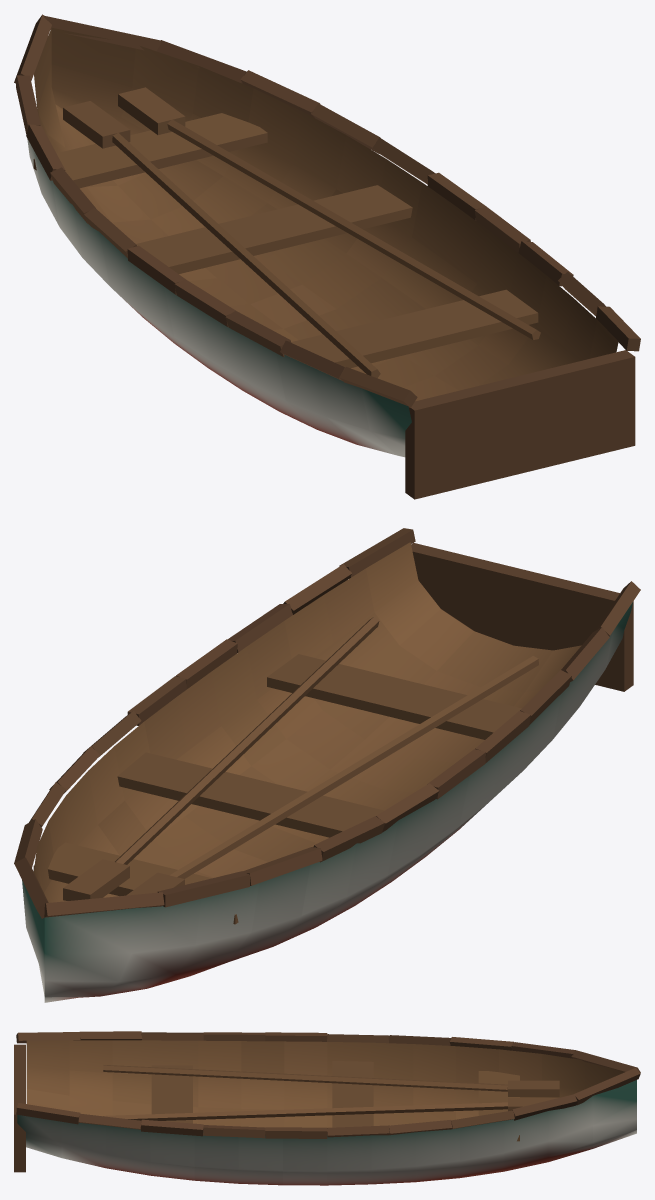
File: rowboat.glb
The picture shows the model from 3 angles, top to bottom: view 1: azimuth 30°, elevation 25°; view 2: azimuth 150°, elevation 25°; view 3: azimuth 270°, elevation 25°; orthographic projection. The views are drawn at different scales.
Visible parts, largest first — view 1: rowboat; view 2: rowboat; view 3: rowboat.
Part boxes in pixels (box(x1,y1,x2,y2)): rowboat: box(14, 14, 640, 499); rowboat: box(14, 528, 640, 1002); rowboat: box(14, 1031, 640, 1185).
Size of the model in its own units: 1.37 by 0.6648 by 3.64.
